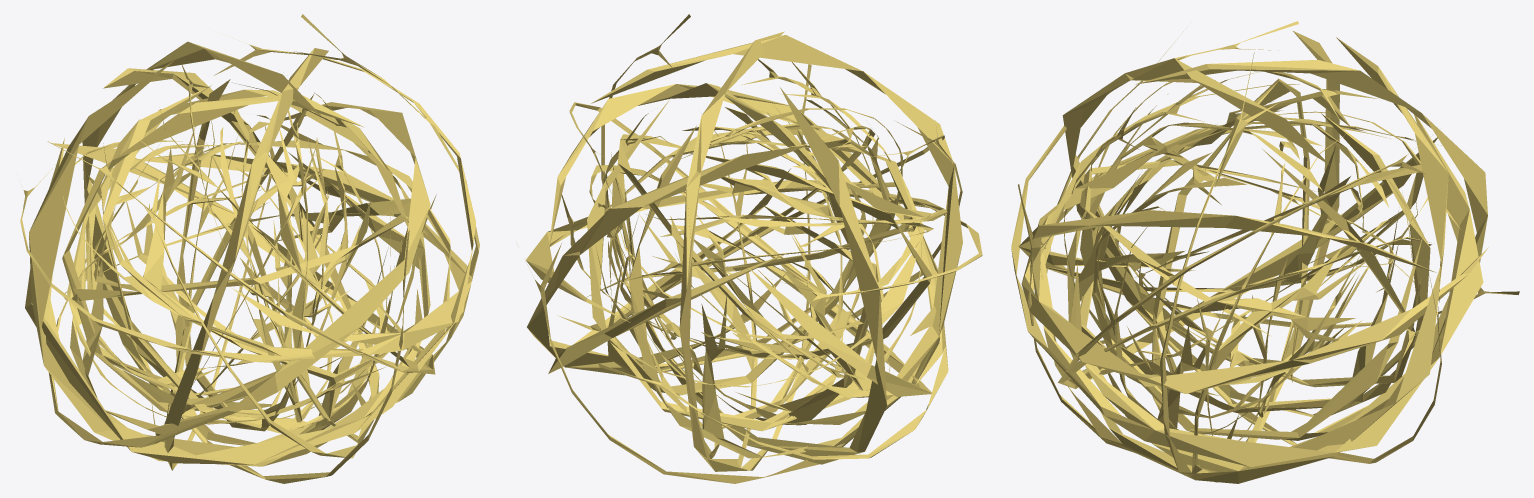
File: tumble.fbx
3 renders of one model, left to right at view 1: azimuth 30°, elevation 25°; view 2: azimuth 150°, elevation 25°; view 3: azimuth 270°, elevation 25°, orthographic. The views are drawn at different scales.
Parts seen in each view (by area): view 1: tumbleWeed; view 2: tumbleWeed; view 3: tumbleWeed.
Boxes of the visible parts, left/top/right/bottom form: tumbleWeed: left=20, top=14, right=479, bottom=483; tumbleWeed: left=524, top=14, right=982, bottom=483; tumbleWeed: left=1011, top=21, right=1519, bottom=483.
Size of the model in its own units: 538 by 564 by 576.
